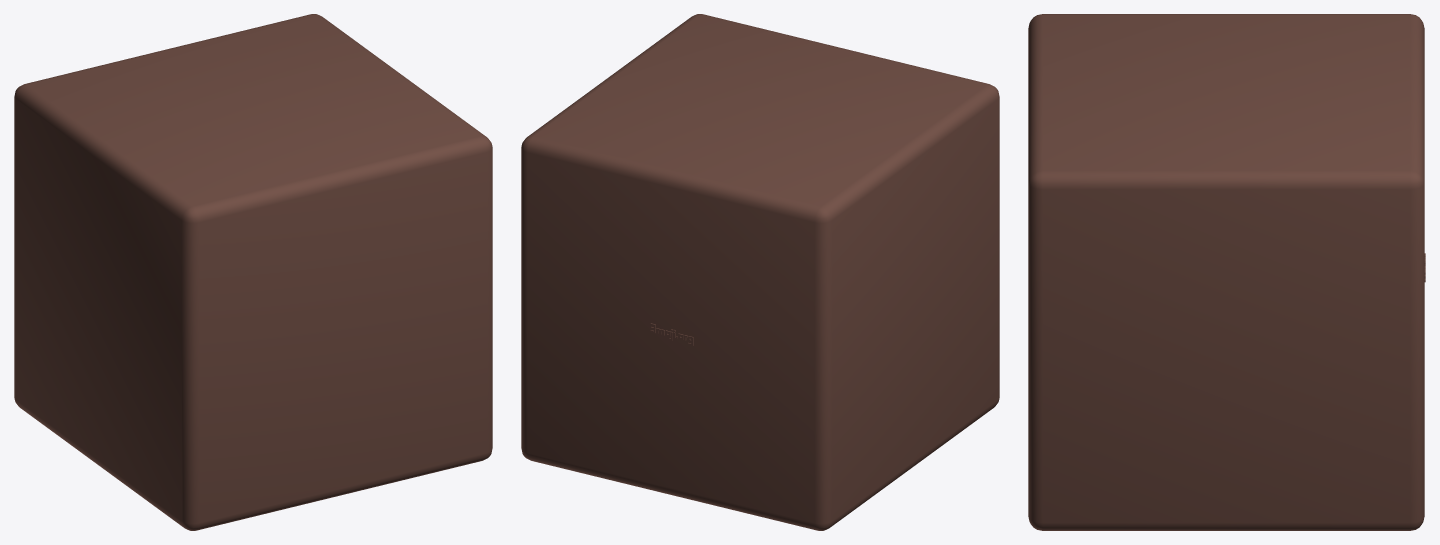
The model's file is brown_square.fbx.
The picture shows the model from 3 angles, left to right: view 1: azimuth 30°, elevation 25°; view 2: azimuth 150°, elevation 25°; view 3: azimuth 270°, elevation 25°; orthographic projection. The views are drawn at different scales.
Parts seen in each view (by area): view 1: brown_square; view 2: brown_square; view 3: brown_square.
Boxes of the visible parts, bbox=[...] form: brown_square: bbox=[14, 14, 492, 530]; brown_square: bbox=[521, 14, 999, 530]; brown_square: bbox=[1028, 14, 1425, 530].
Size of the model in its own units: 192 by 192 by 192.
1 material, 1 textured.
